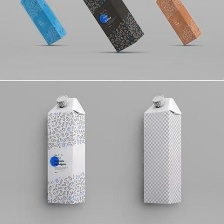carton: (42, 93, 96, 208), (138, 91, 184, 207), (79, 0, 146, 54), (16, 0, 74, 46), (153, 0, 203, 46)
